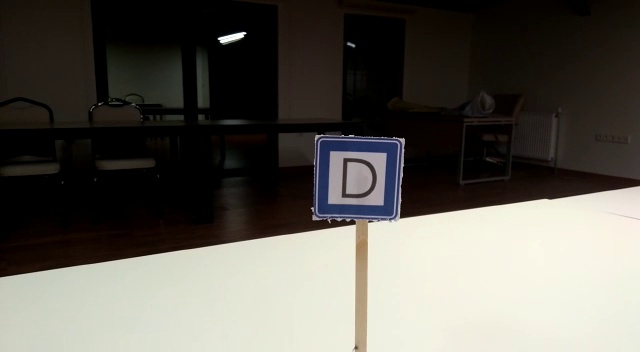durak: (314, 139, 401, 219)
